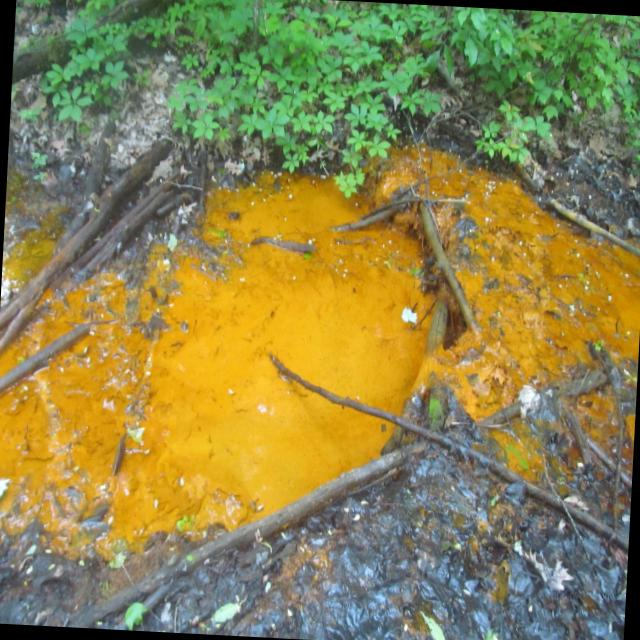yellow_boy: (0, 147, 640, 553)
